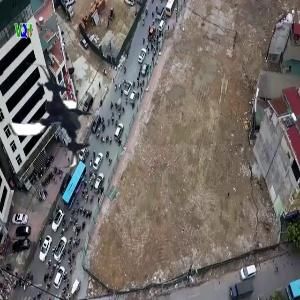drone: (4, 67, 107, 170)
